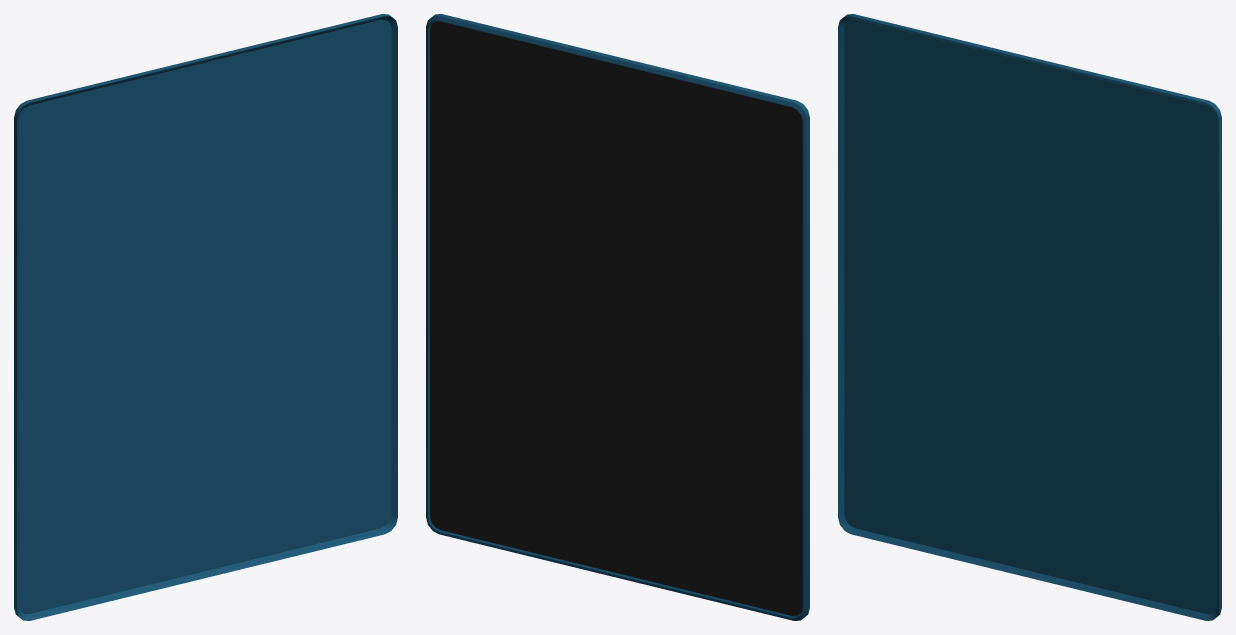
File: textScreen.fbx
3 renders of one model, left to right at view 1: azimuth 30°, elevation 25°; view 2: azimuth 150°, elevation 25°; view 3: azimuth 330°, elevation 25°, orthographic.
Parts seen in each view (by area): view 1: Cube; view 2: Cube; view 3: Cube.
Part boxes in pixels (x1,y1,x2,y2): Cube: (14,14,397,620); Cube: (426,14,809,620); Cube: (838,14,1221,620).
Bounding box in the file's own units: 204 × 266 × 3.59.
Materials: 1 (1 with a texture image).
